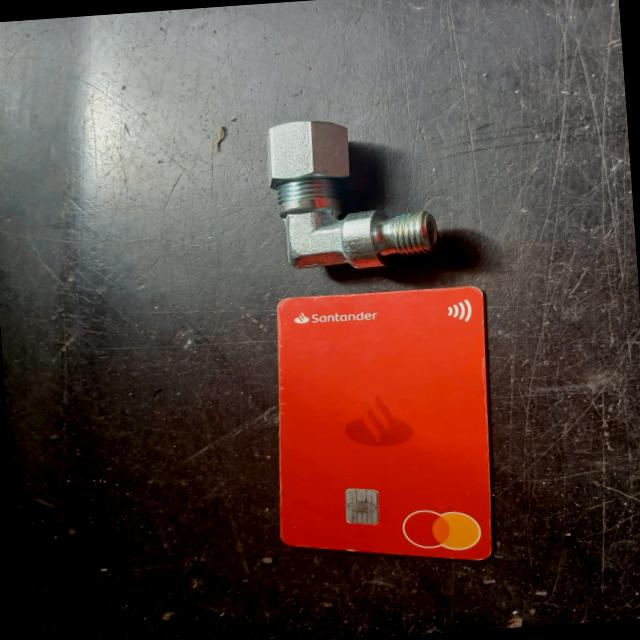cartao: (263, 284, 502, 575)
rosca_externa: (264, 111, 440, 275)
